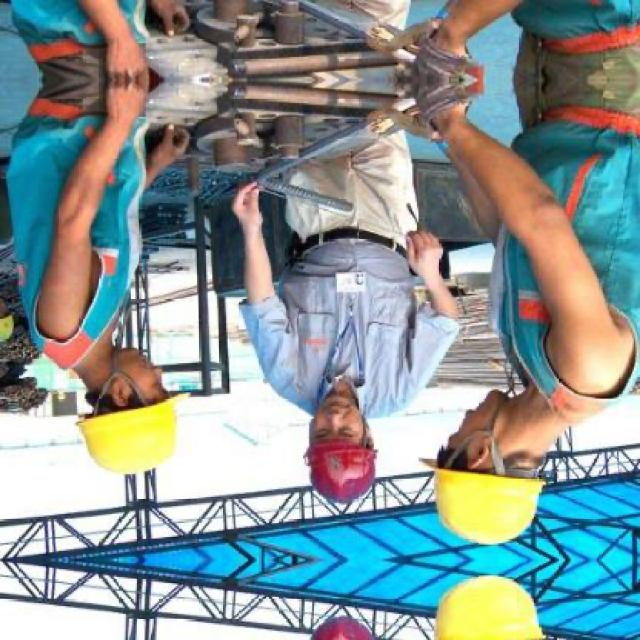con casco: (8, 295, 189, 455), (418, 384, 562, 539), (274, 375, 384, 487)
